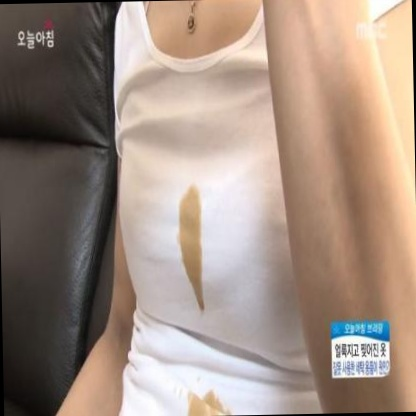coffee: (185, 188, 200, 279)
